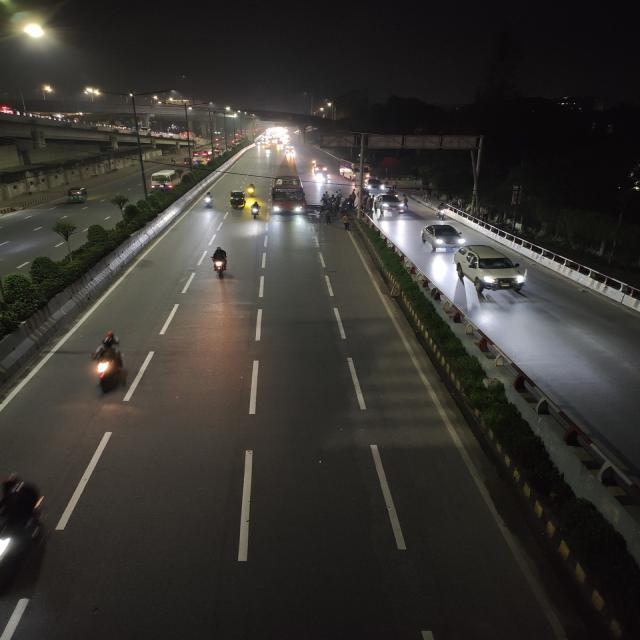bus: (269, 174, 306, 217), (340, 159, 370, 182), (191, 150, 212, 166)
car: (456, 245, 532, 292), (418, 223, 468, 256), (377, 193, 406, 216), (148, 170, 179, 190), (312, 164, 329, 174)
cng: (67, 186, 87, 205), (228, 192, 250, 208)
motorcycle: (80, 325, 136, 410), (207, 241, 237, 283), (249, 200, 265, 221), (436, 203, 450, 225), (202, 190, 216, 211), (245, 183, 257, 196)
pedestrian: (341, 213, 353, 234), (322, 207, 333, 225), (348, 190, 358, 208), (328, 192, 336, 204), (322, 193, 328, 206), (336, 190, 341, 200)
